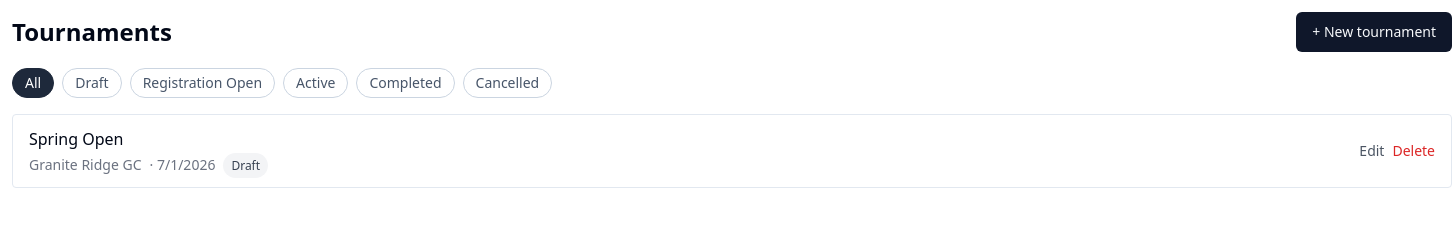
Test: TournamentListClient › shows confirm row on Delete click for draft tournament
Click the button "Delete": coordinates (1414, 151) [1392,141,1435,161]
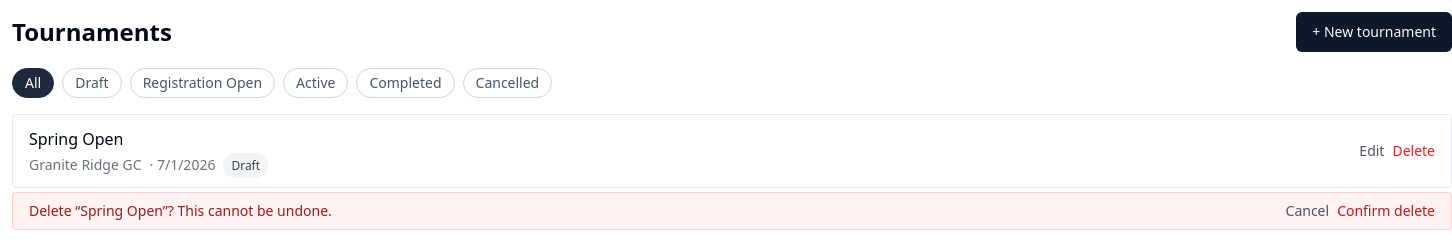
Expected: the text "Delete “Spring Open”? This cannot be undone." is shown, [29,201,332,221]
Expected: the button "Confirm delete" is shown, [1337,201,1435,221]
